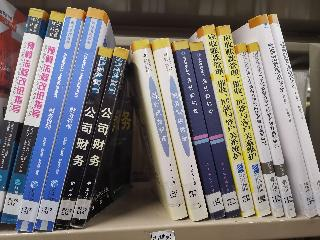book-spine: (31, 7, 106, 233), (15, 5, 85, 233), (0, 10, 66, 227), (255, 13, 319, 218), (68, 45, 131, 231), (52, 44, 114, 231), (214, 25, 272, 219), (266, 14, 320, 216), (201, 24, 256, 217), (132, 38, 190, 221), (153, 38, 210, 223), (171, 40, 227, 220), (186, 40, 242, 219), (247, 41, 298, 220), (0, 7, 44, 214), (234, 43, 285, 216)
